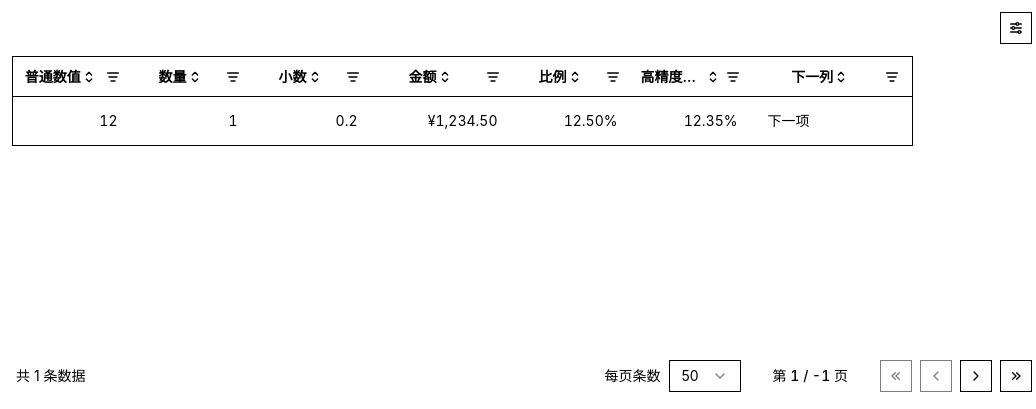
DataTableEditableNumberCell › keeps intermediate text raw, blocks invalid Enter, and commits normalized number text
Double-click the cell "12" at coordinates (108, 120), box left=12, top=97, right=132, bottom=145
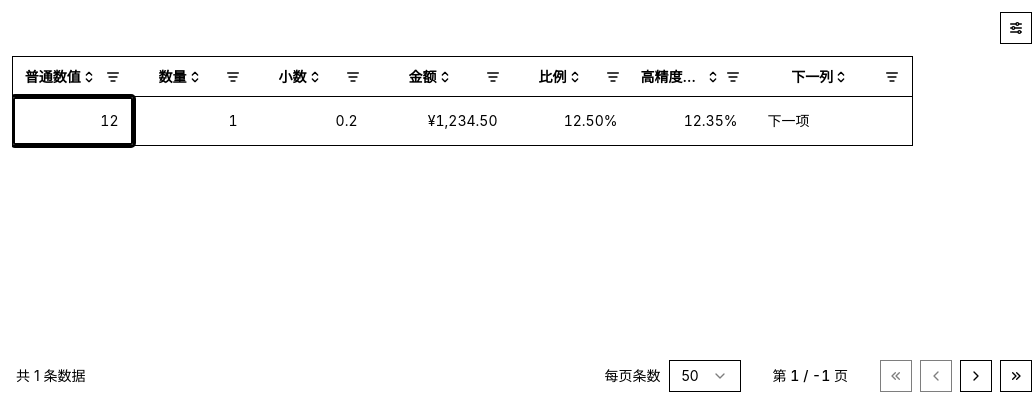
Expected: the field named "编辑普通数值" holds "12"
Replace the text in the field named "编辑普通数值" with "-" at coordinates (73, 121), box left=15, top=99, right=130, bottom=142
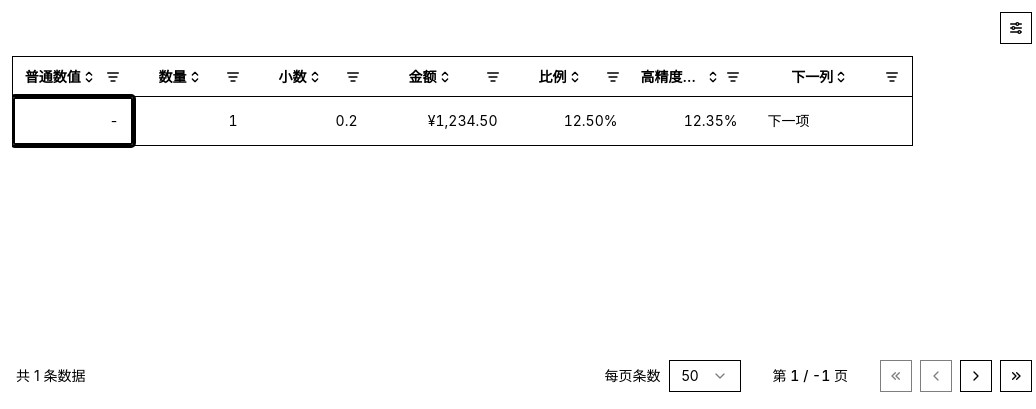
Expected: the field named "编辑普通数值" is marked as invalid, left=15, top=99, right=130, bottom=142
Press Enter
Replace the text in the field named "编辑普通数值" with "1,234.50" at coordinates (73, 121), box left=15, top=99, right=130, bottom=142
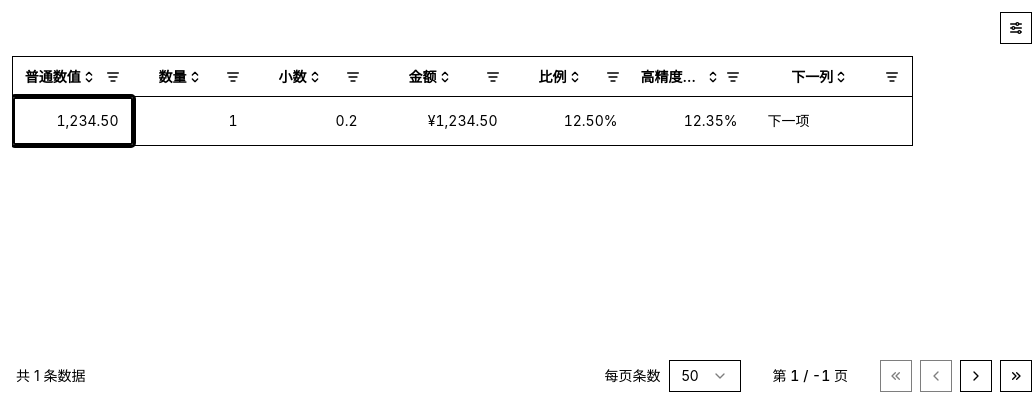
Press Enter
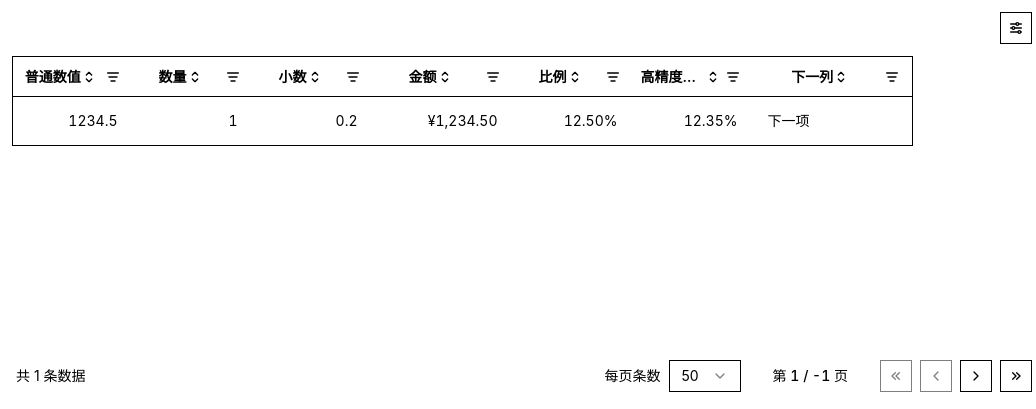
Expected: the cell "1234.5" is shown, left=12, top=97, right=132, bottom=145
